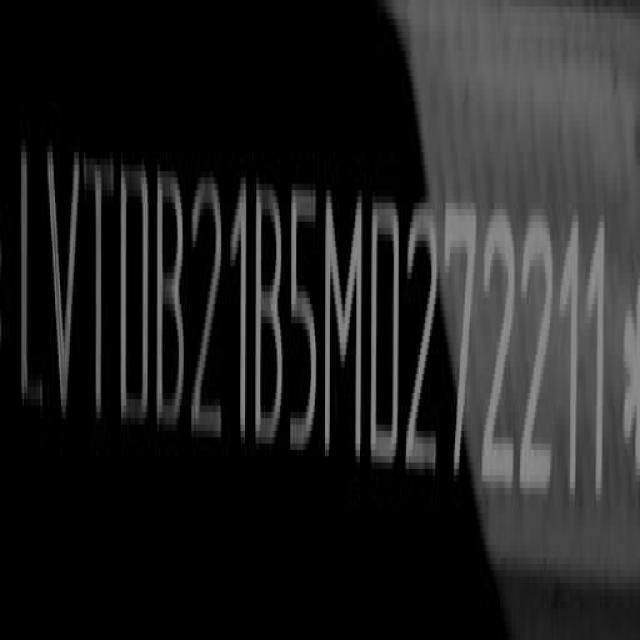1: (557, 214, 581, 511), (584, 224, 608, 498), (229, 171, 249, 444)
2: (402, 208, 442, 488), (518, 211, 556, 495), (190, 171, 226, 463), (482, 214, 516, 495)
5: (288, 163, 320, 460)
7: (444, 193, 477, 472)
B: (252, 158, 284, 451), (153, 163, 185, 428)
D: (116, 135, 150, 425), (367, 188, 401, 464)
L: (18, 115, 48, 419)
M: (324, 194, 368, 460)
T: (82, 130, 114, 413)
V: (46, 133, 81, 409)
